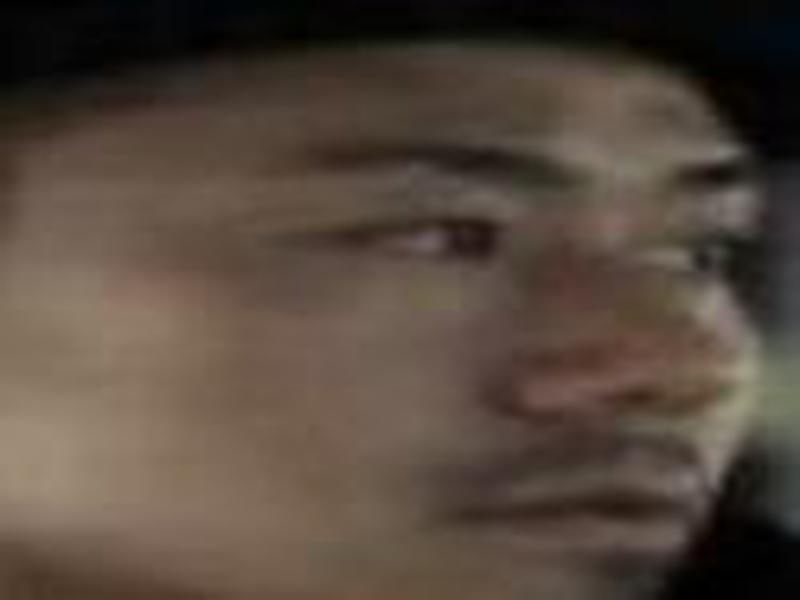without_mask: (6, 34, 757, 595)
